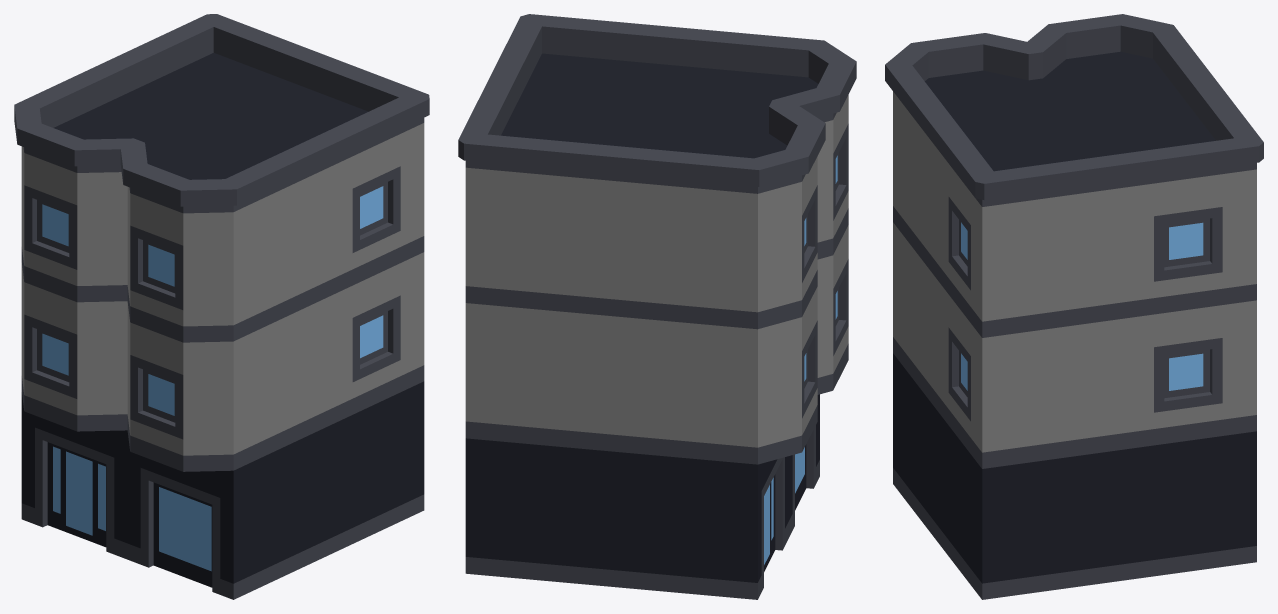
The model's file is variant_15.obj.
3 views of the same model, side by side, from view 1: azimuth 30°, elevation 25°; view 2: azimuth 150°, elevation 25°; view 3: azimuth 270°, elevation 25° (orthographic). The views are drawn at different scales.
Parts seen in each view (by area): view 1: small_buildingA; view 2: small_buildingA; view 3: small_buildingA.
Boxes of the visible parts, x1,y1,x2,y2 form: small_buildingA: (14, 14, 429, 599); small_buildingA: (458, 14, 856, 599); small_buildingA: (885, 14, 1263, 599).
Size of the model in its own units: 1.11 by 1.28 by 1.05.
